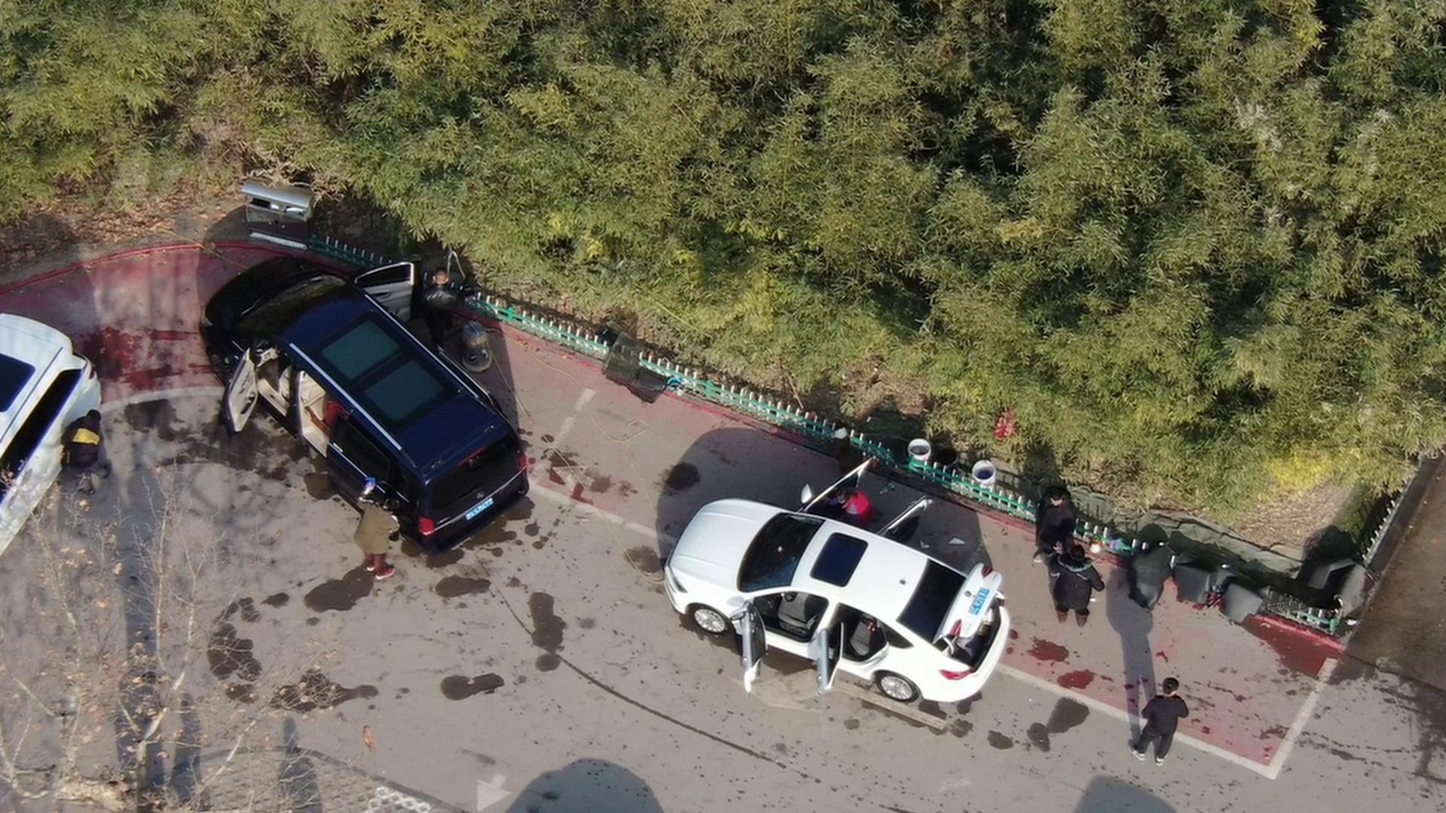human: (1125, 674, 1190, 758), (60, 403, 115, 495), (1045, 547, 1099, 629), (355, 491, 401, 582), (415, 271, 468, 337), (1029, 479, 1076, 553), (833, 482, 875, 534)
